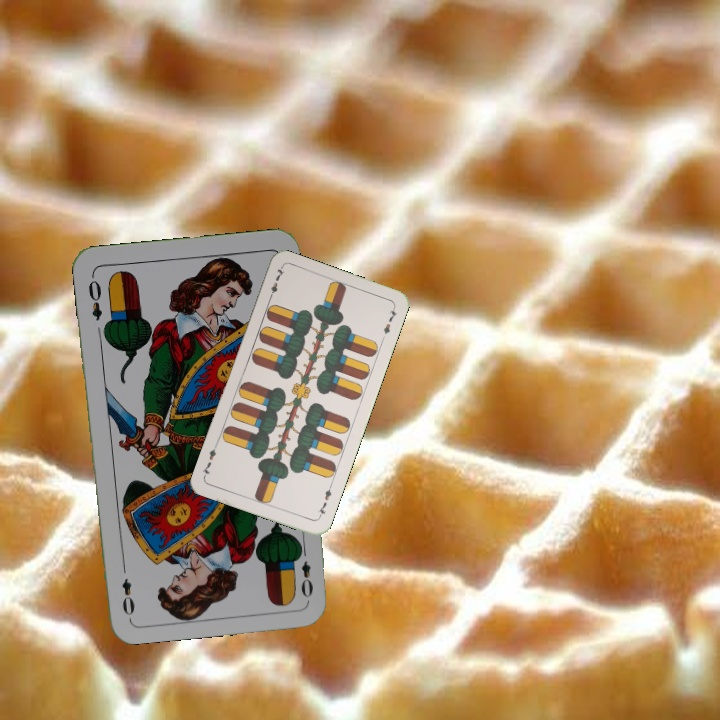E7: (265, 264, 287, 303), (314, 482, 335, 521)
EO: (293, 542, 316, 601), (84, 271, 105, 323)
